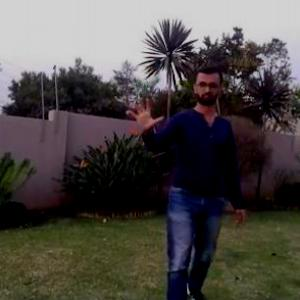follow_hand: (122, 95, 164, 134)
